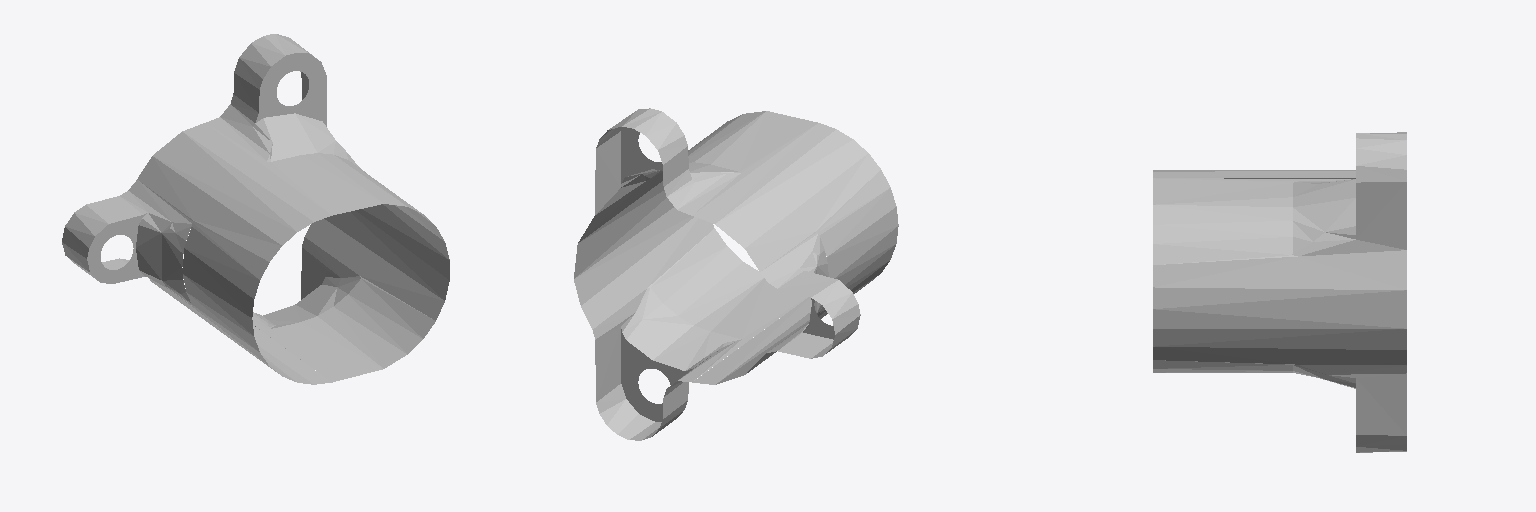
Rendered from motor_support_dr.obj.
3 views of the same model, side by side, from view 1: azimuth 30°, elevation 25°; view 2: azimuth 150°, elevation 25°; view 3: azimuth 270°, elevation 25° (orthographic).
Bounding box in the file's own units: 0.0476 × 0.0543 × 0.04.